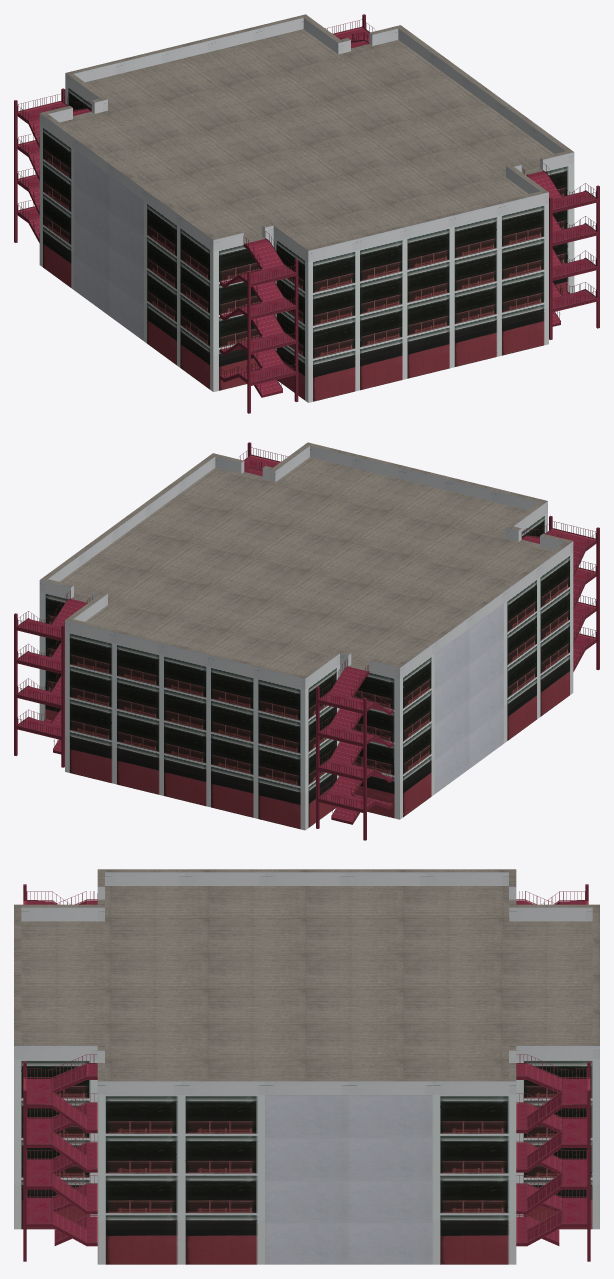
The model's file is nucarpark01_lvs.obj.
3 renders of one model, top to bottom at view 1: azimuth 30°, elevation 25°; view 2: azimuth 150°, elevation 25°; view 3: azimuth 270°, elevation 25°, orthographic. The views are drawn at different scales.
Parts seen in each view (by area): view 1: nucarpark01_lvs; view 2: nucarpark01_lvs; view 3: nucarpark01_lvs.
Part boxes in pixels (x1,y1,x2,y2): nucarpark01_lvs: [14, 14, 599, 413]; nucarpark01_lvs: [14, 442, 599, 840]; nucarpark01_lvs: [14, 869, 599, 1264].
Size of the model in its own units: 43.19 by 17.39 by 50.38.
7 materials, 7 textured.
